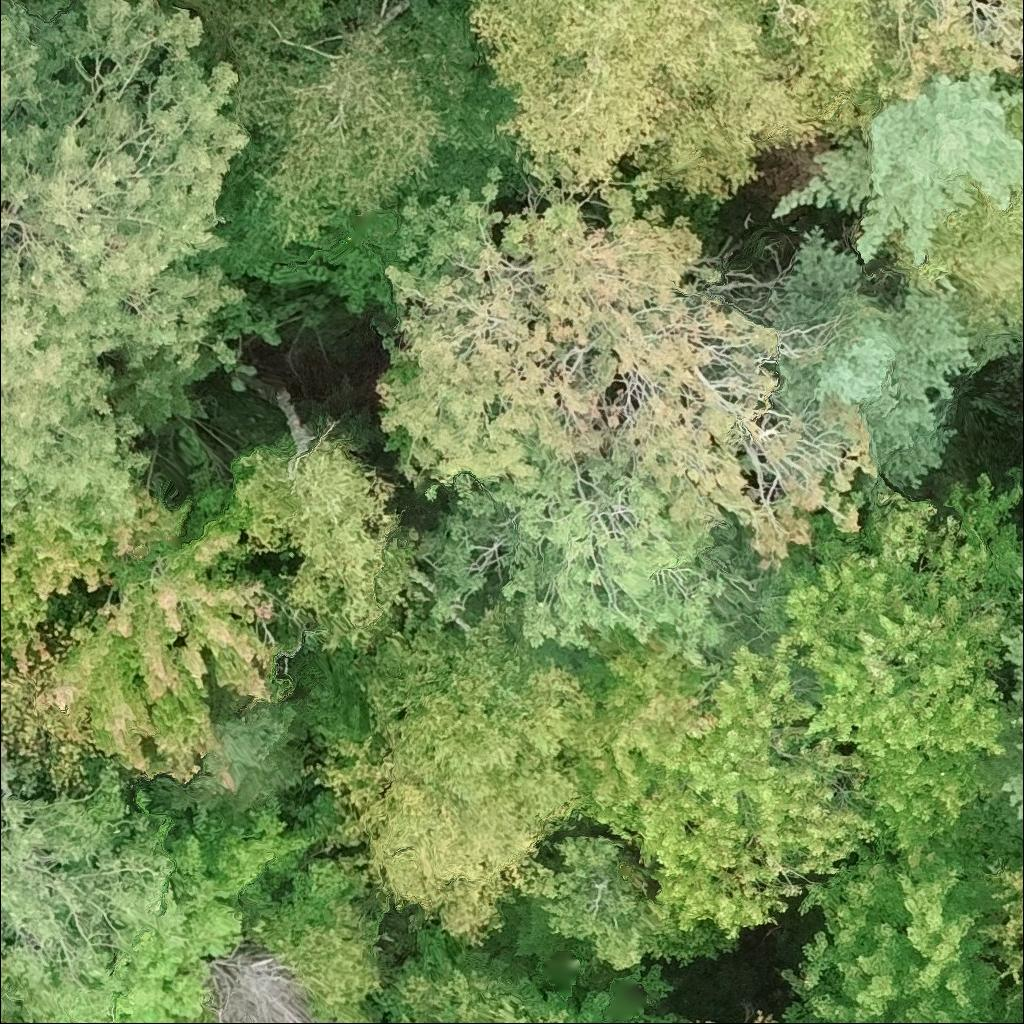crown: (369, 160, 876, 674), (0, 0, 260, 533), (309, 602, 598, 950), (567, 627, 884, 943), (773, 467, 1023, 856), (191, 0, 502, 283), (453, 0, 841, 215), (758, 228, 1023, 498), (35, 510, 280, 792), (770, 67, 1023, 276), (0, 756, 185, 1023), (218, 434, 418, 667), (778, 840, 1006, 1023), (0, 486, 195, 680), (50, 879, 248, 1023), (257, 856, 390, 1023), (878, 192, 1023, 337), (144, 703, 309, 823), (770, 0, 898, 141), (873, 0, 1023, 110), (161, 806, 319, 900), (375, 966, 592, 1023), (997, 558, 1023, 841), (975, 859, 1023, 986), (226, 0, 339, 52), (753, 0, 821, 33), (1004, 106, 1023, 148), (0, 0, 40, 14), (746, 1011, 783, 1023), (162, 0, 193, 11), (0, 1012, 28, 1023), (931, 1016, 953, 1023), (437, 0, 455, 6), (690, 1019, 715, 1023), (1020, 409, 1023, 425), (1023, 92, 1023, 93)
